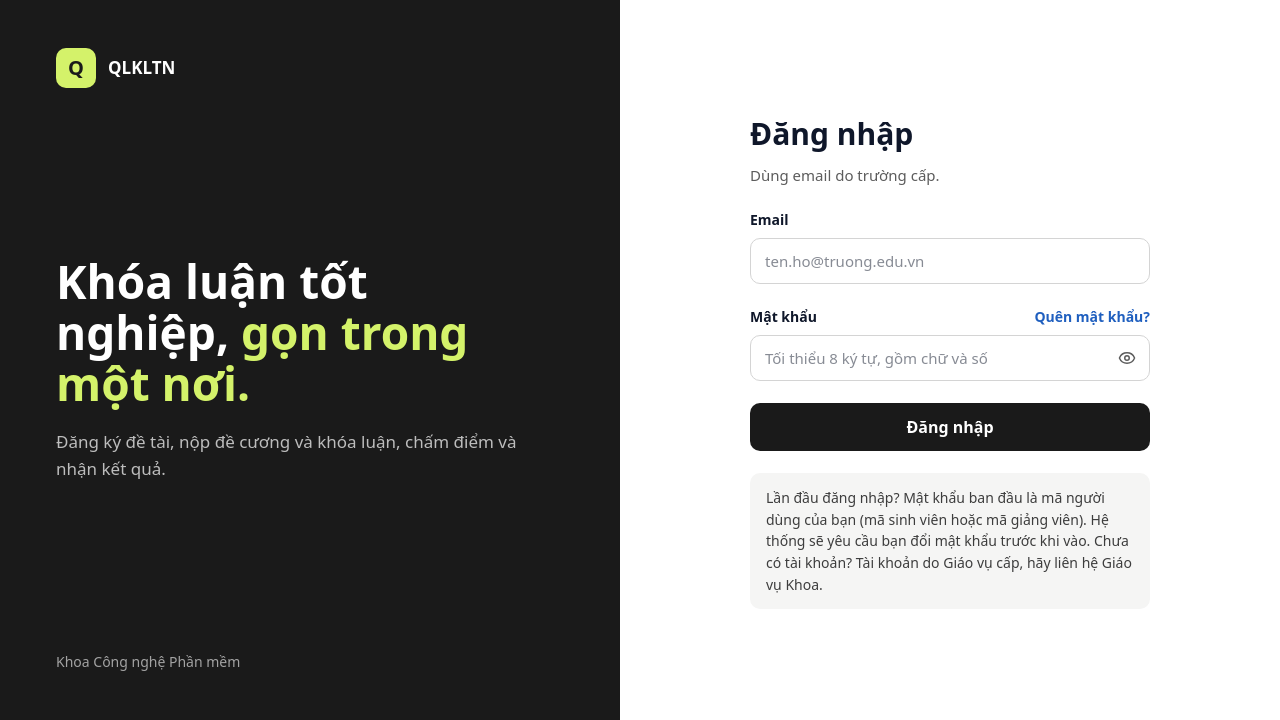
shows field errors when email or password is empty
Click the button "Đăng nhập": (950, 427) [750,403,1150,451]
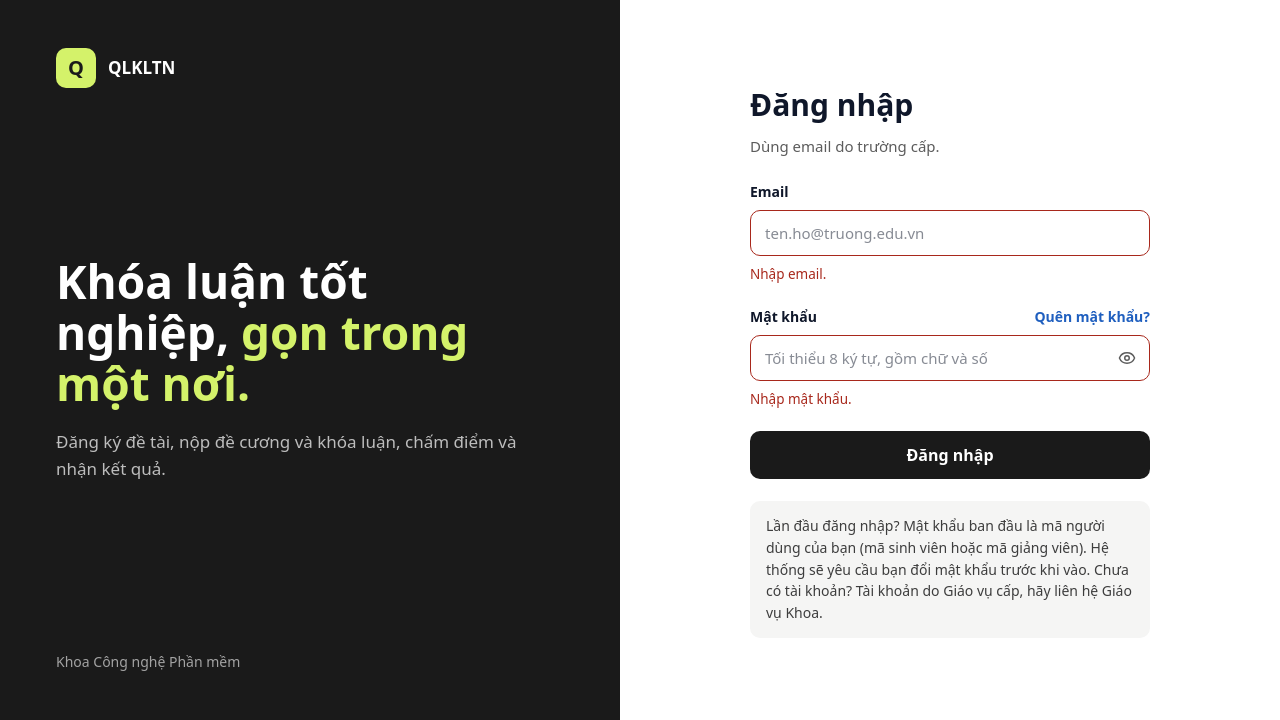
Result: the text "Nhập email." is shown at [750,265,826,283]
Result: the text "Nhập mật khẩu." is shown at [750,390,852,408]
